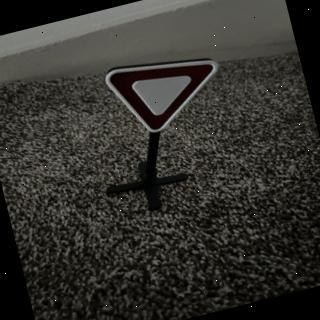sign_yield: (104, 44, 232, 143)
